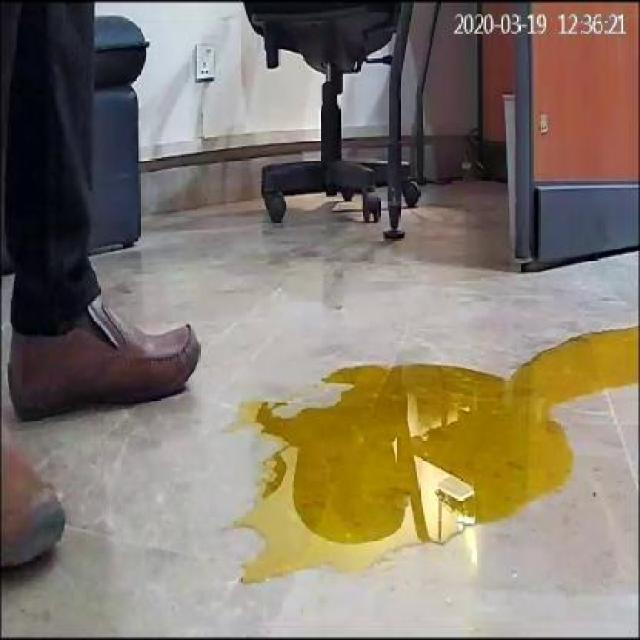spill: (232, 324, 636, 578)
